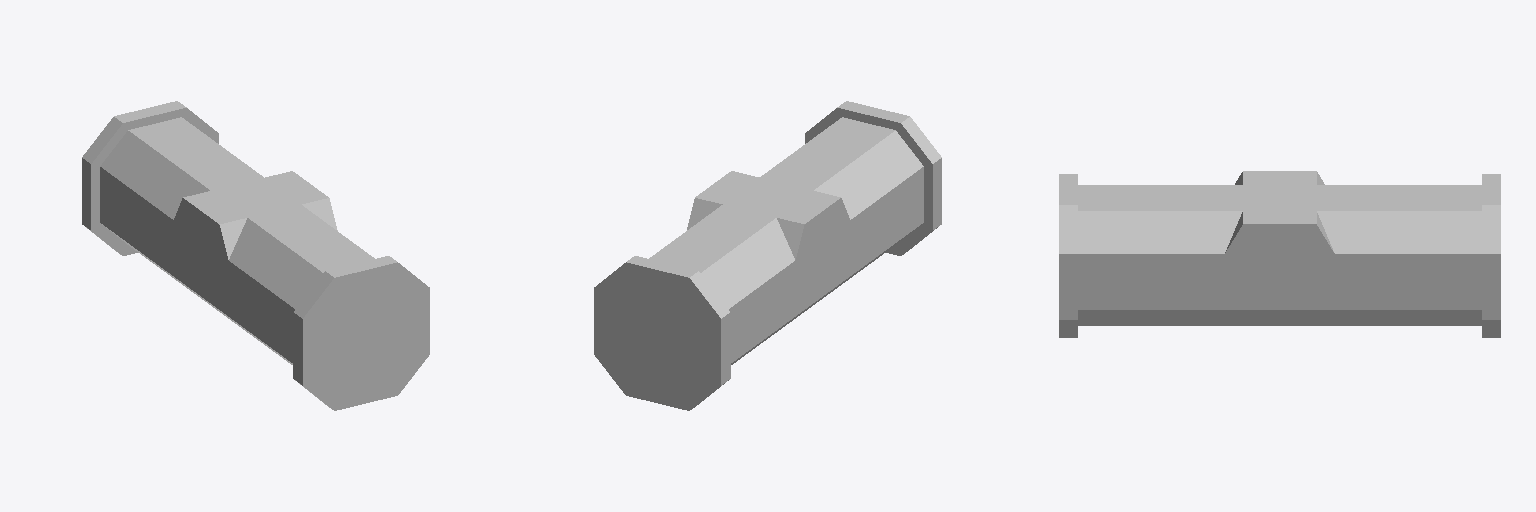
The model's file is crate_octagon.obj.
The picture shows the model from 3 angles: view 1: azimuth 30°, elevation 25°; view 2: azimuth 150°, elevation 25°; view 3: azimuth 270°, elevation 25°; orthographic projection.
Visible parts, largest first — view 1: crate_octagon; view 2: crate_octagon; view 3: crate_octagon.
Part boxes in pixels (left/top/right/bottom): crate_octagon: left=82, top=101, right=429, bottom=410; crate_octagon: left=594, top=101, right=941, bottom=410; crate_octagon: left=1059, top=171, right=1500, bottom=337.
Bounding box in the file's own units: 1 × 1 × 3.